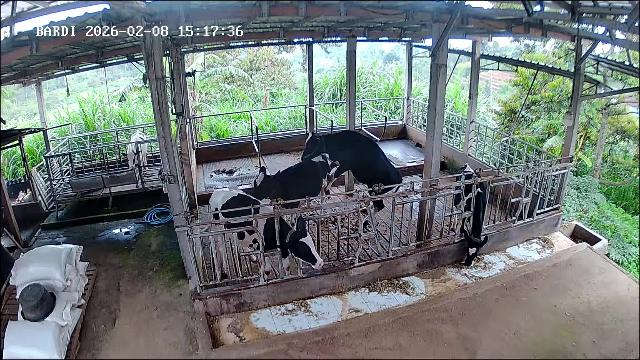mounting: (300, 129, 404, 223)
